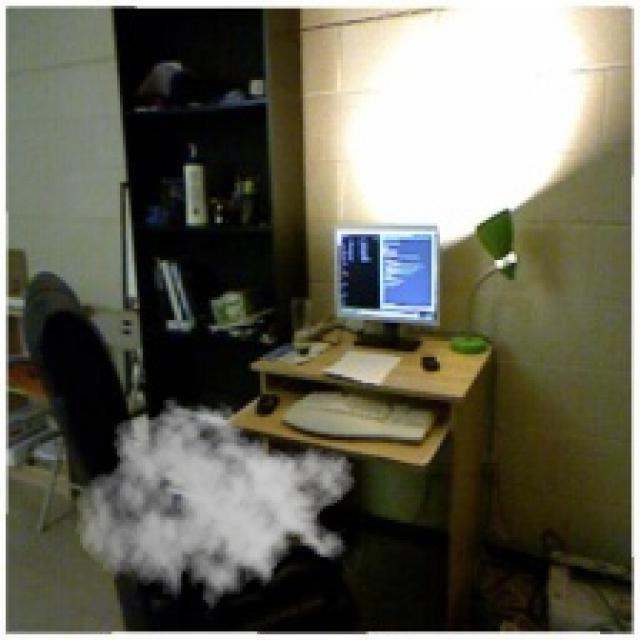Smoke: (74, 391, 357, 620)
